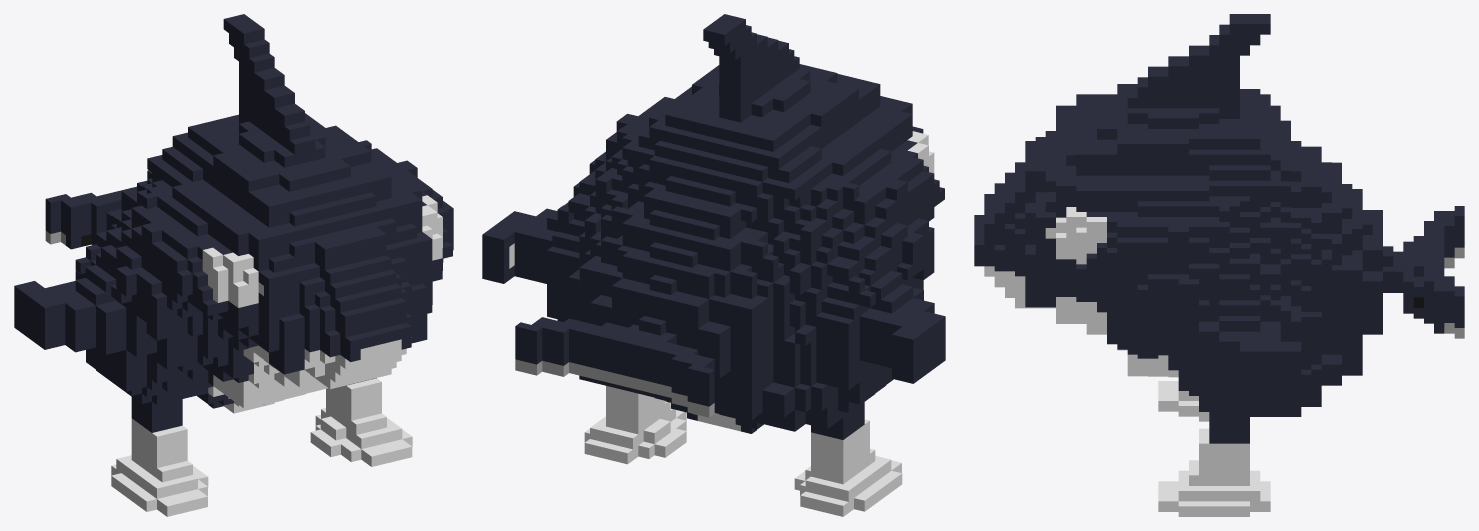
The model's file is asyu.glb.
The picture shows the model from 3 angles, left to right: view 1: azimuth 30°, elevation 25°; view 2: azimuth 150°, elevation 25°; view 3: azimuth 270°, elevation 25°; orthographic projection. The views are drawn at different scales.
Visible parts, largest first — view 1: Untitled; view 2: Untitled; view 3: Untitled.
Boxes of the visible parts, bbox=[...] form: Untitled: bbox=[14, 14, 453, 516]; Untitled: bbox=[482, 14, 945, 516]; Untitled: bbox=[974, 14, 1464, 516].
Size of the model in its own units: 4 by 4.02 by 4.13.
1 material, 1 textured.
